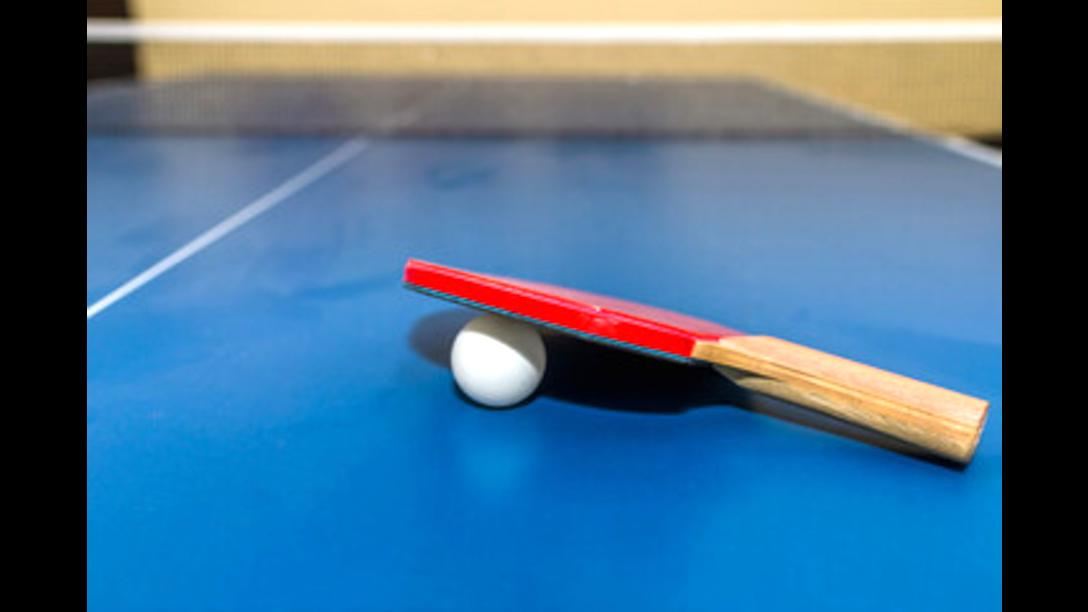Table-Tennis-Ball: (452, 312, 542, 402)
